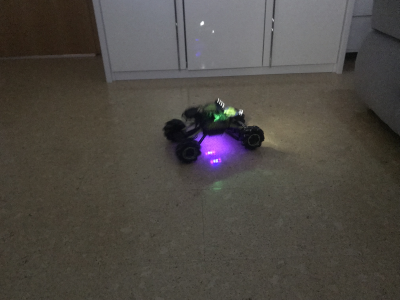remote control car: (160, 97, 267, 163)
